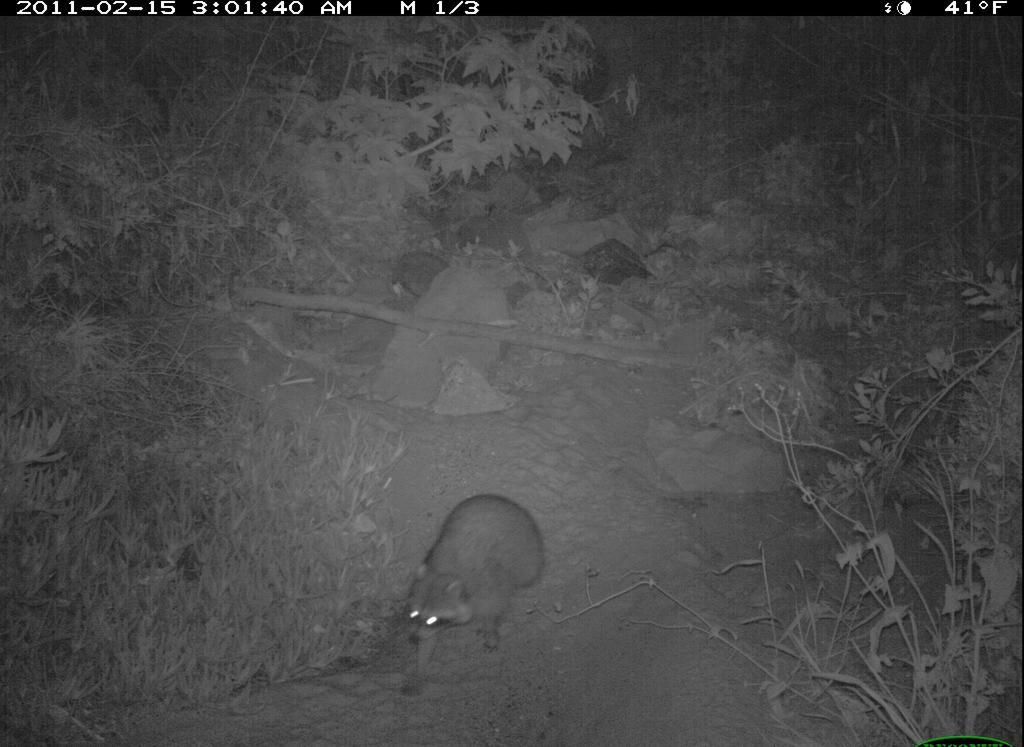raccoon: (391, 477, 559, 711)
